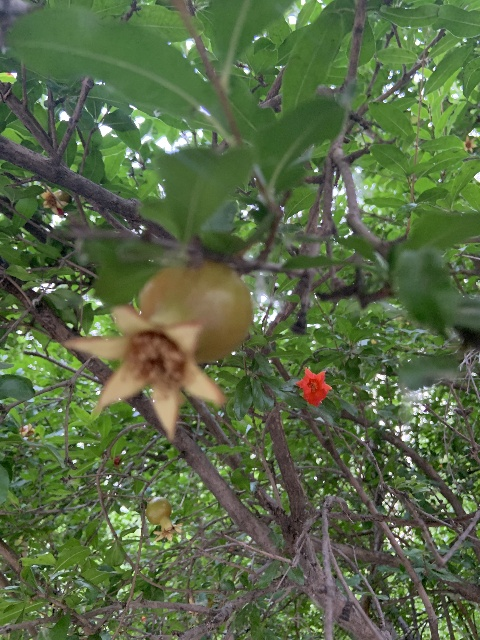early-fruit: (62, 262, 253, 441), (145, 497, 184, 542), (40, 184, 71, 216), (462, 134, 477, 152)
flower: (294, 366, 332, 406)
